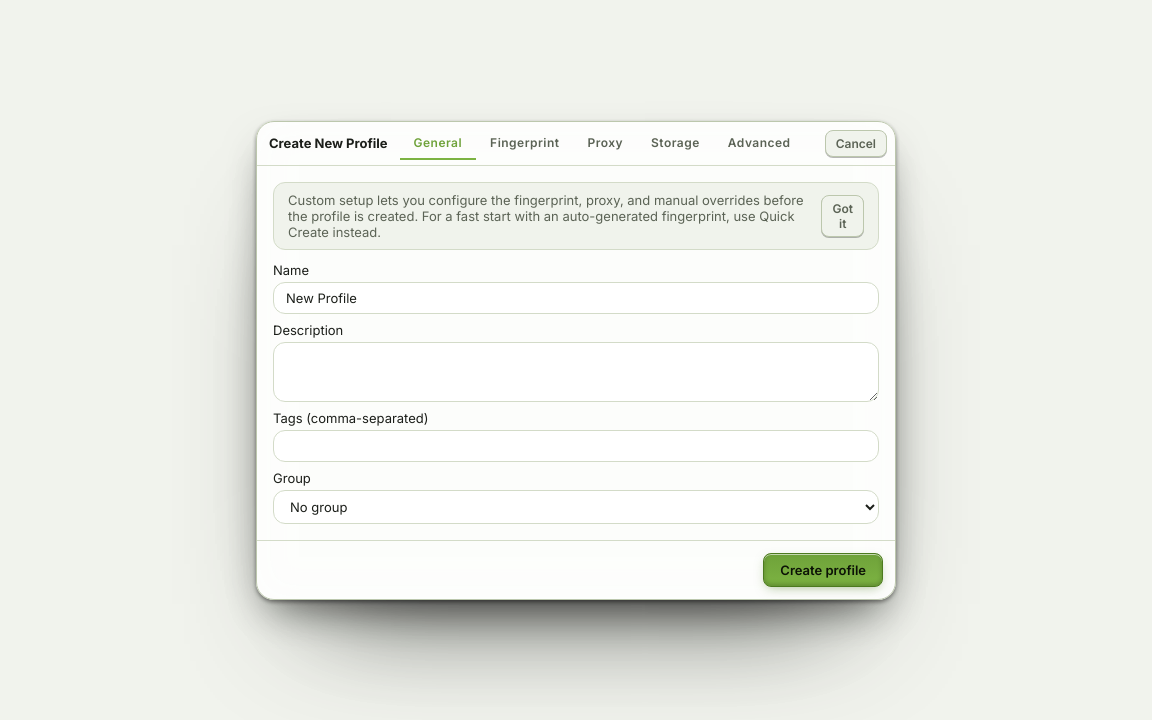
it: ProfileCreateModal › shows the first-run Custom setup hint and dismissing it persists to localStorage so it never reappears
The image size is (1152, 720).
Expected: the field labelled "Name" is shown, x1=273 y1=282 x2=879 y2=314
Expected: the text "Custom setup lets you configure" is shown, x1=288 y1=192 x2=804 y2=240
Click the button "Got it". click: {"x": 843, "y": 216}
box: x1=822 y1=194 x2=864 y2=236
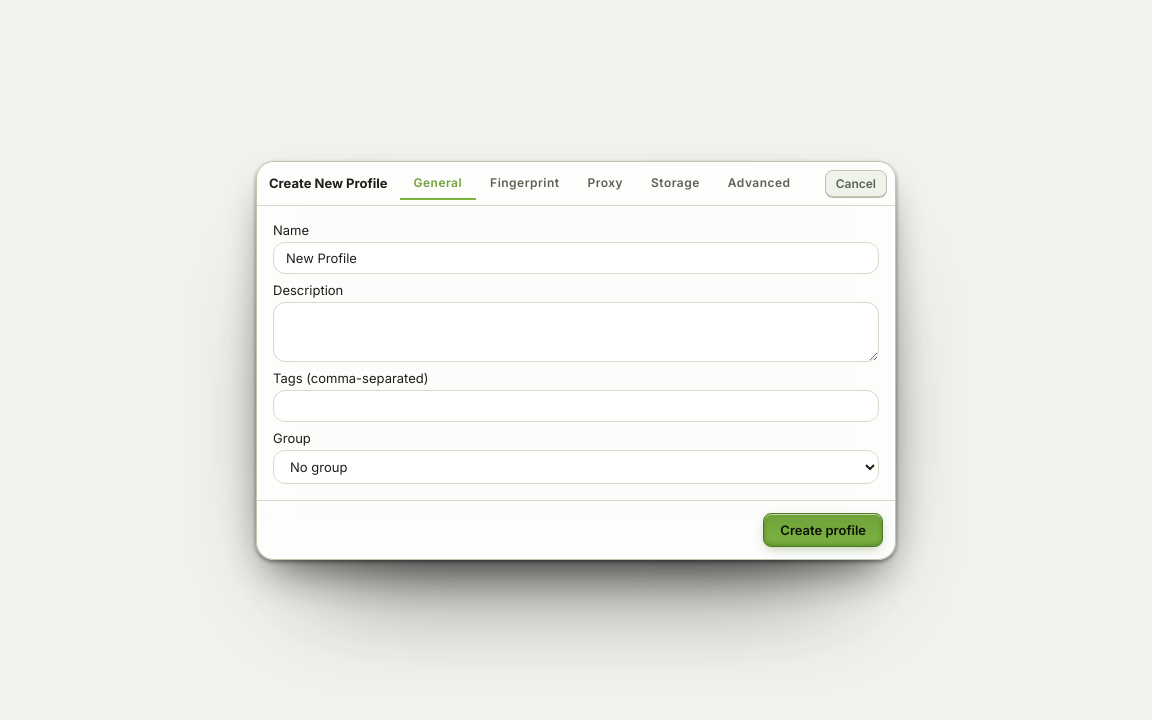
Expected: the button "Got it" is gone
